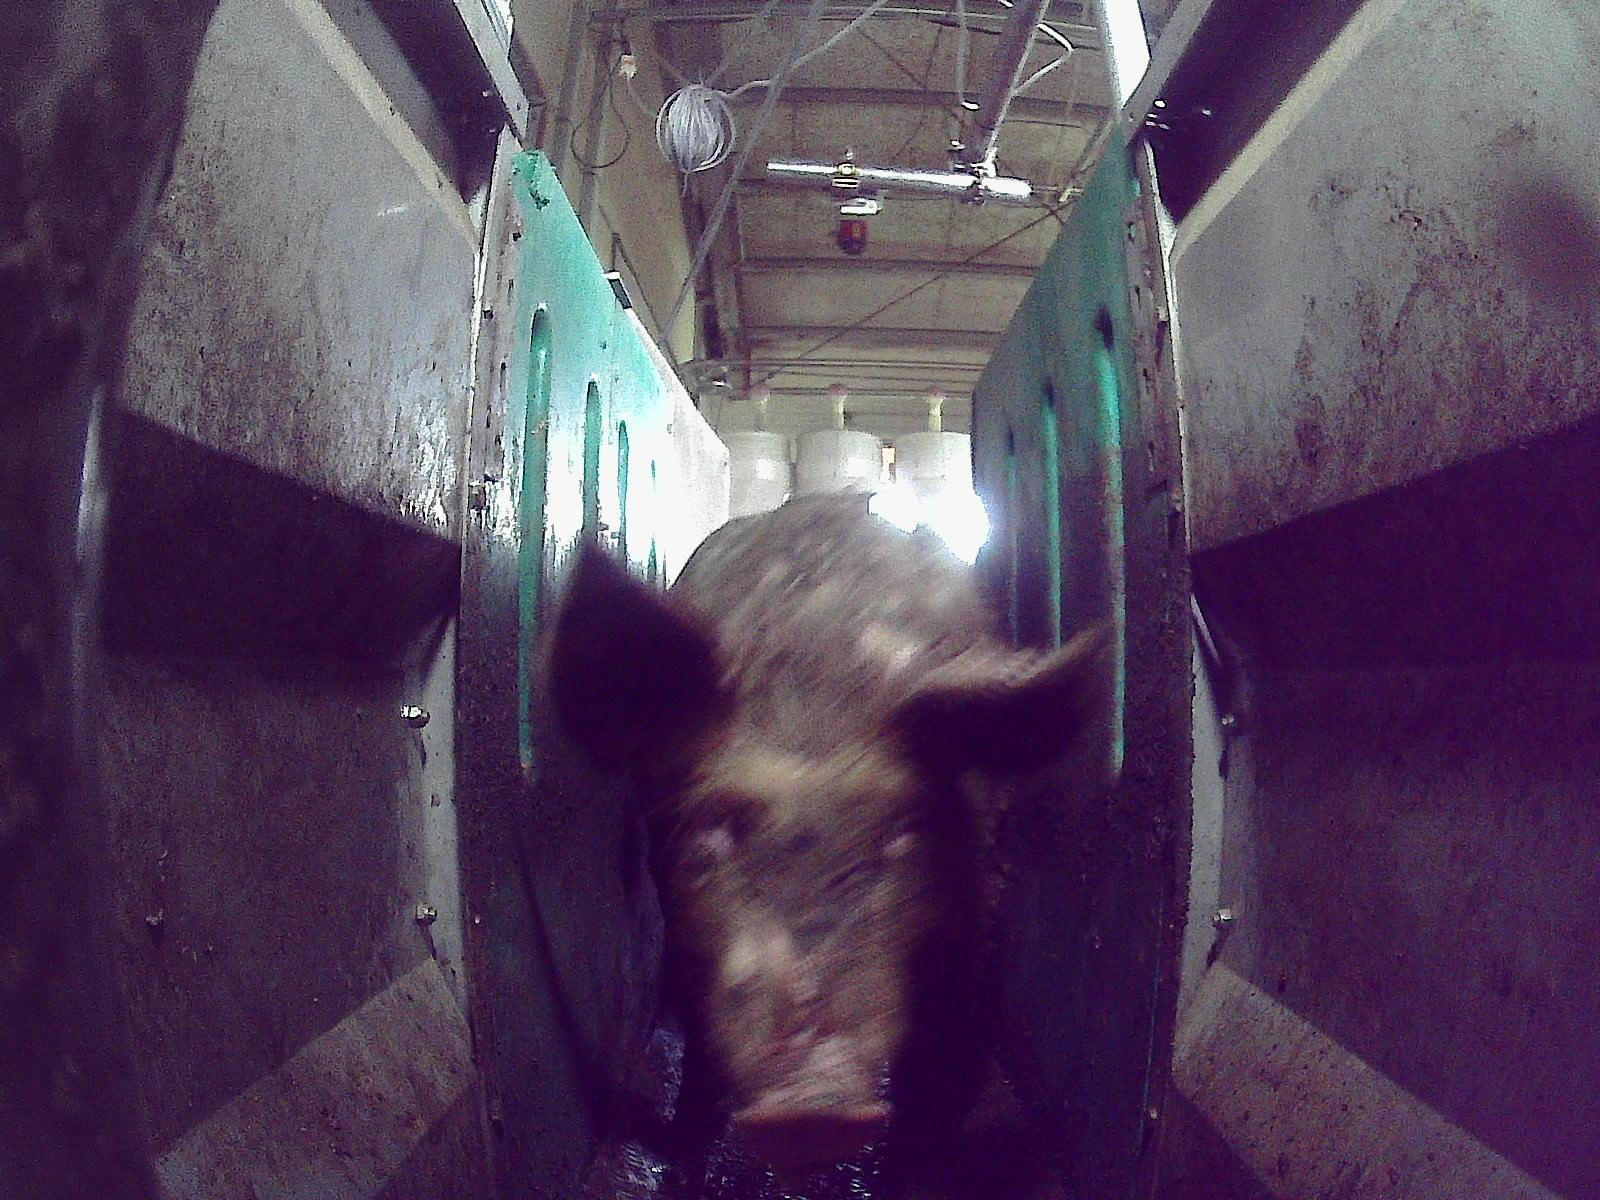Face: (643, 688, 955, 1164)
